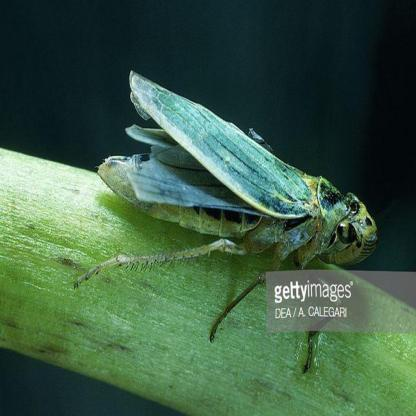green-leafhopper: (95, 76, 377, 294)
